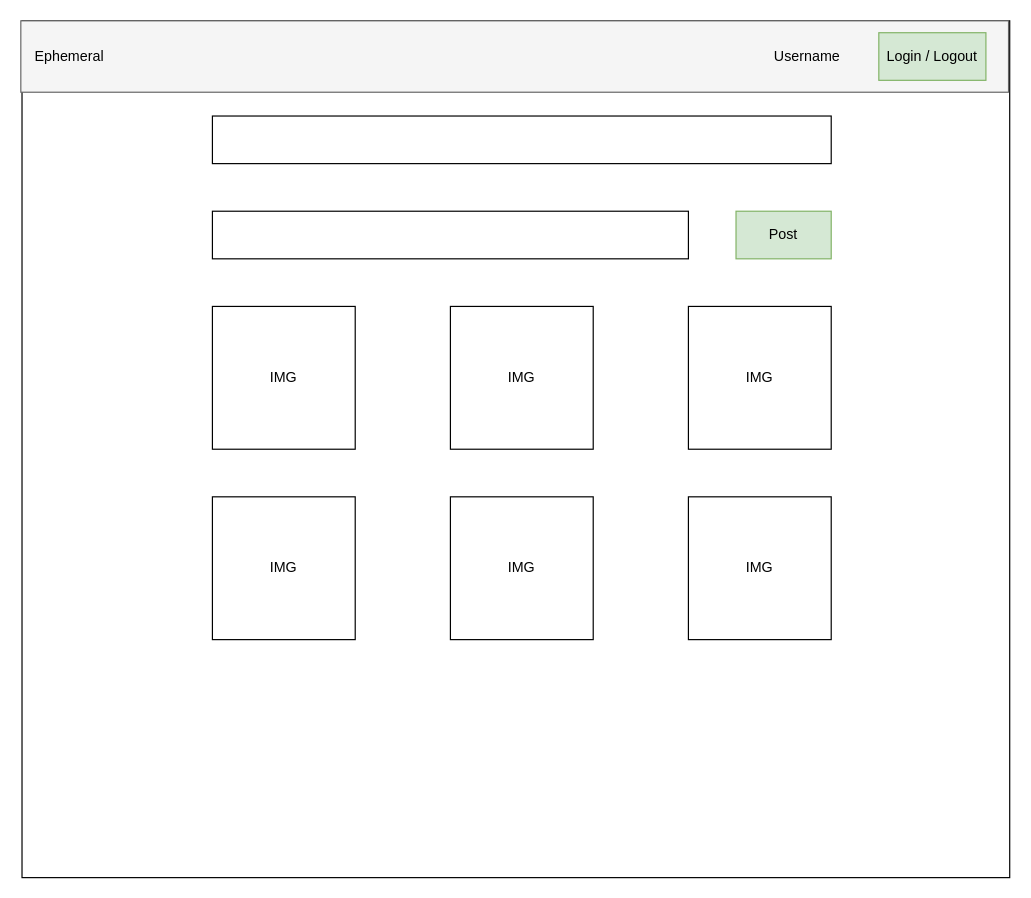
Image size: 1031x898. Some labels were removed from this diagram. Here are the shapes that lost their labels. From the top down, the centre of each, then its label:
At (x=521, y=139): "url of img...".
At (x=449, y=234): "title of img".
